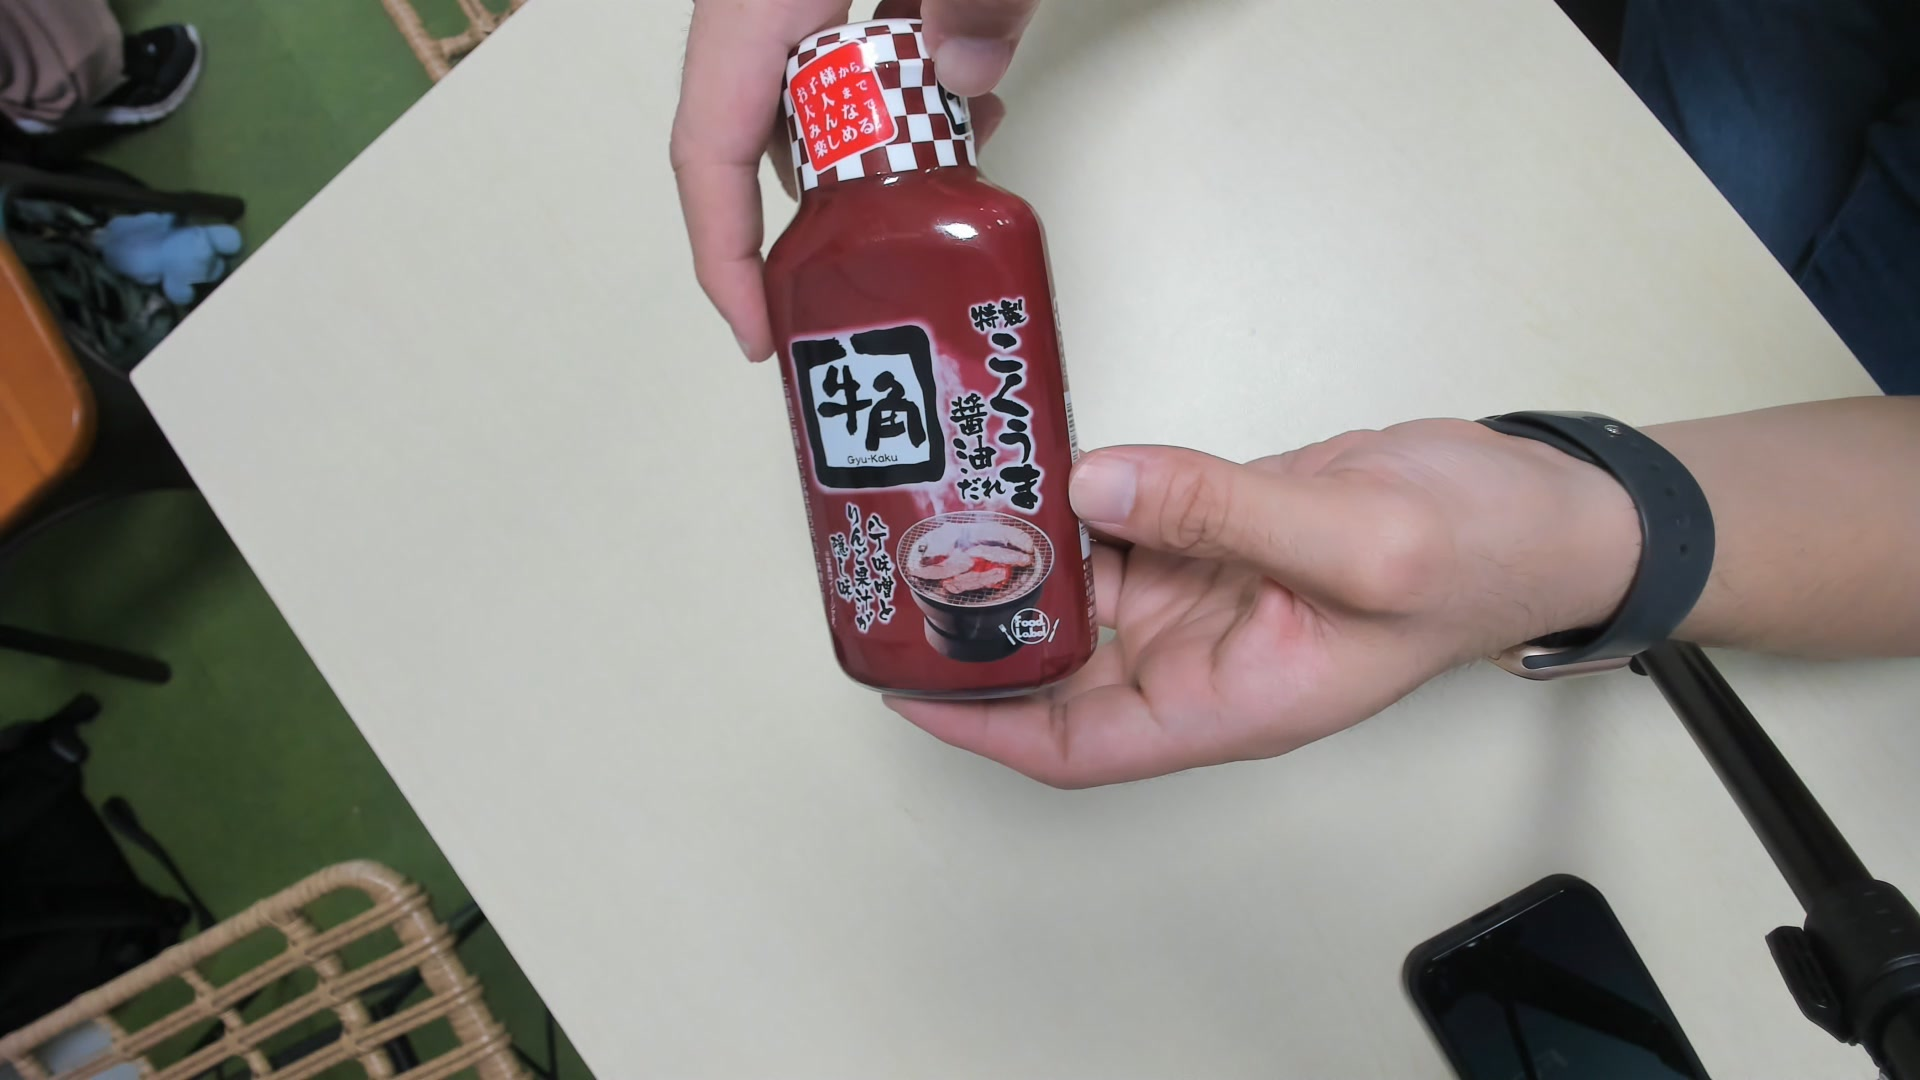OtherSauceDressing_200-299g_NonHalal_NonHealthy: (767, 18, 1092, 699)
